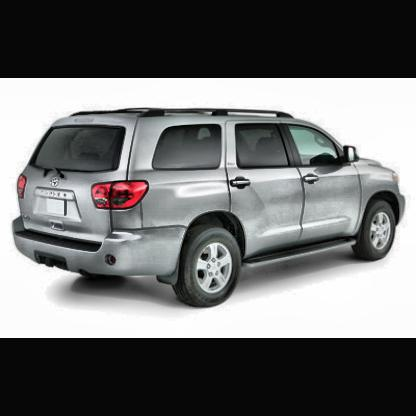Toyota Sequoia SUV 2012: (8, 106, 408, 312)
